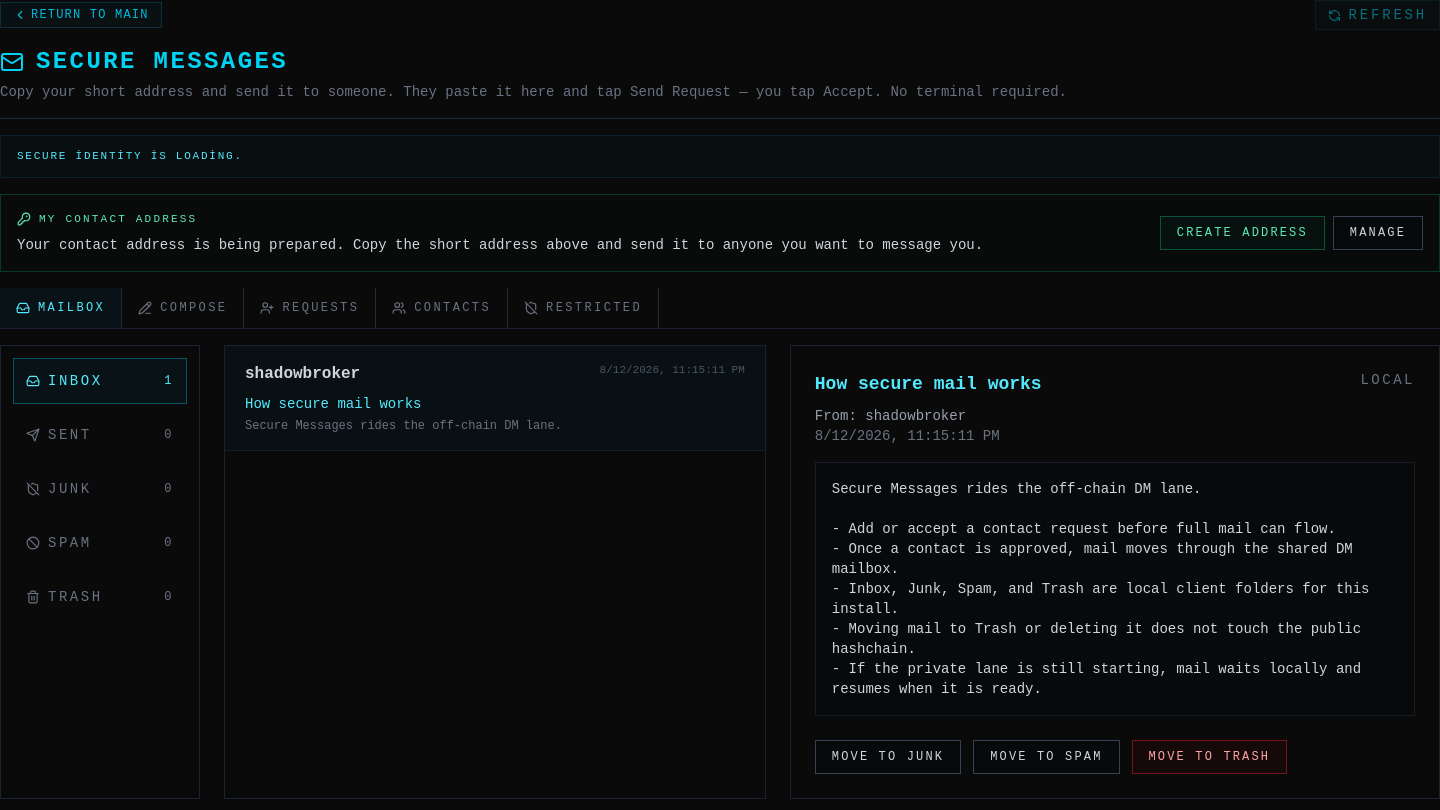
Test: MessagesView first-contact trust UX › saves mail locally when a saved contact is not reachable yet
Click the button "COMPOSE" at (183, 308), box [122,288,244,328]
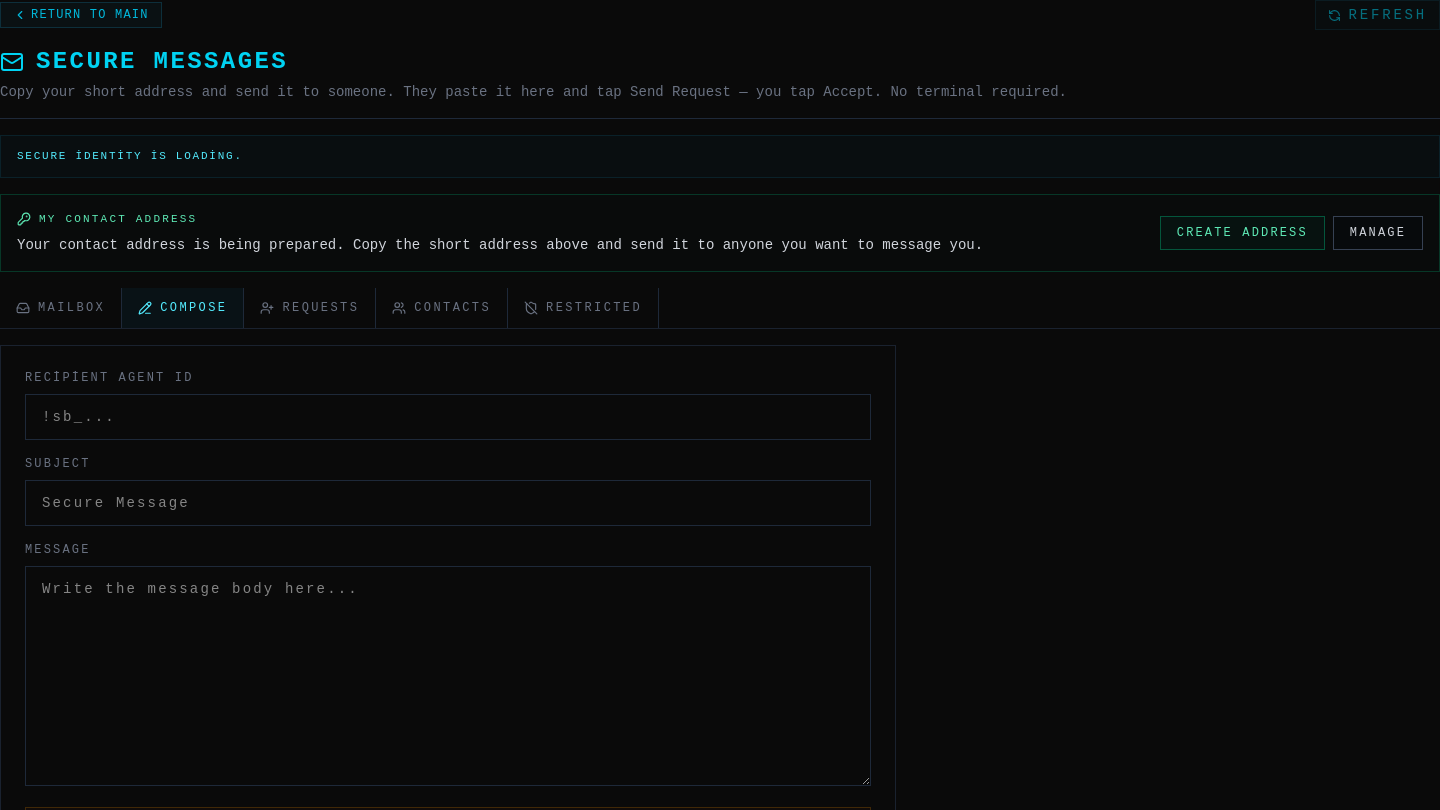
Type "!sb_pending" into the field labelled "Recipient agent ID" at (448, 417), box [25,394,871,440]
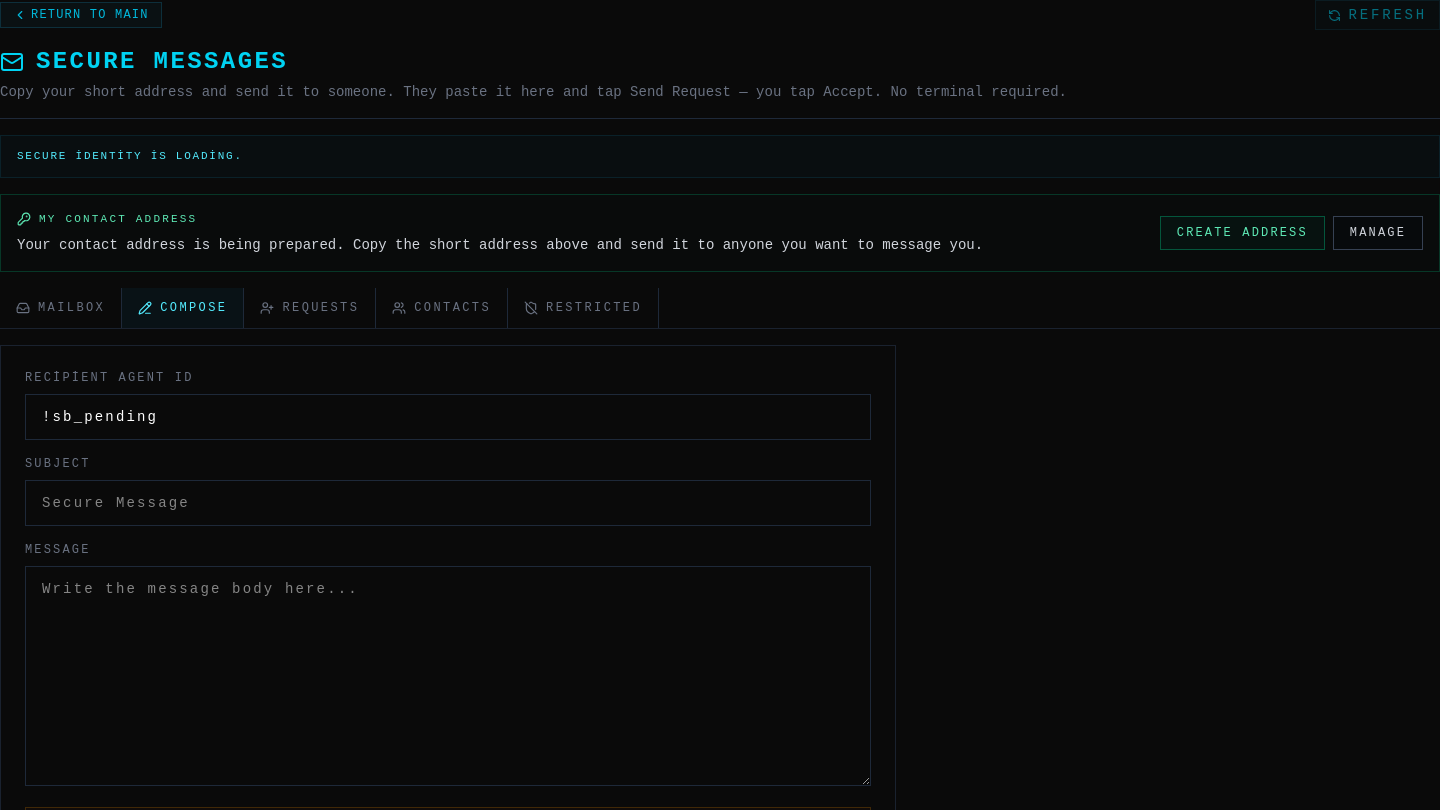
Type "hello when ready" into the text box labelled "Message" at (448, 676), box [25,566,871,786]
(page scrolled)
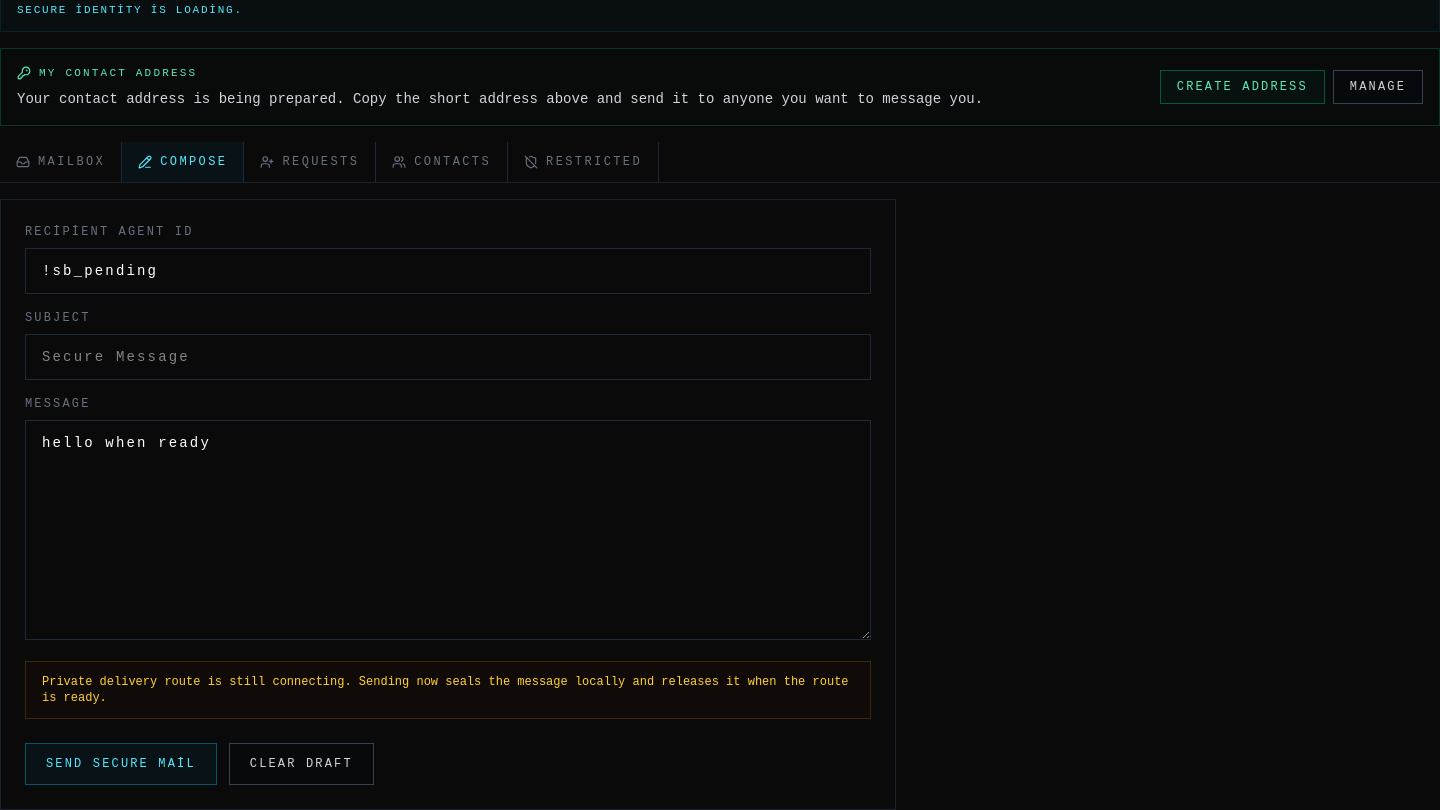
Click the button "Send Secure Mail" at (121, 764), box [25,743,217,785]
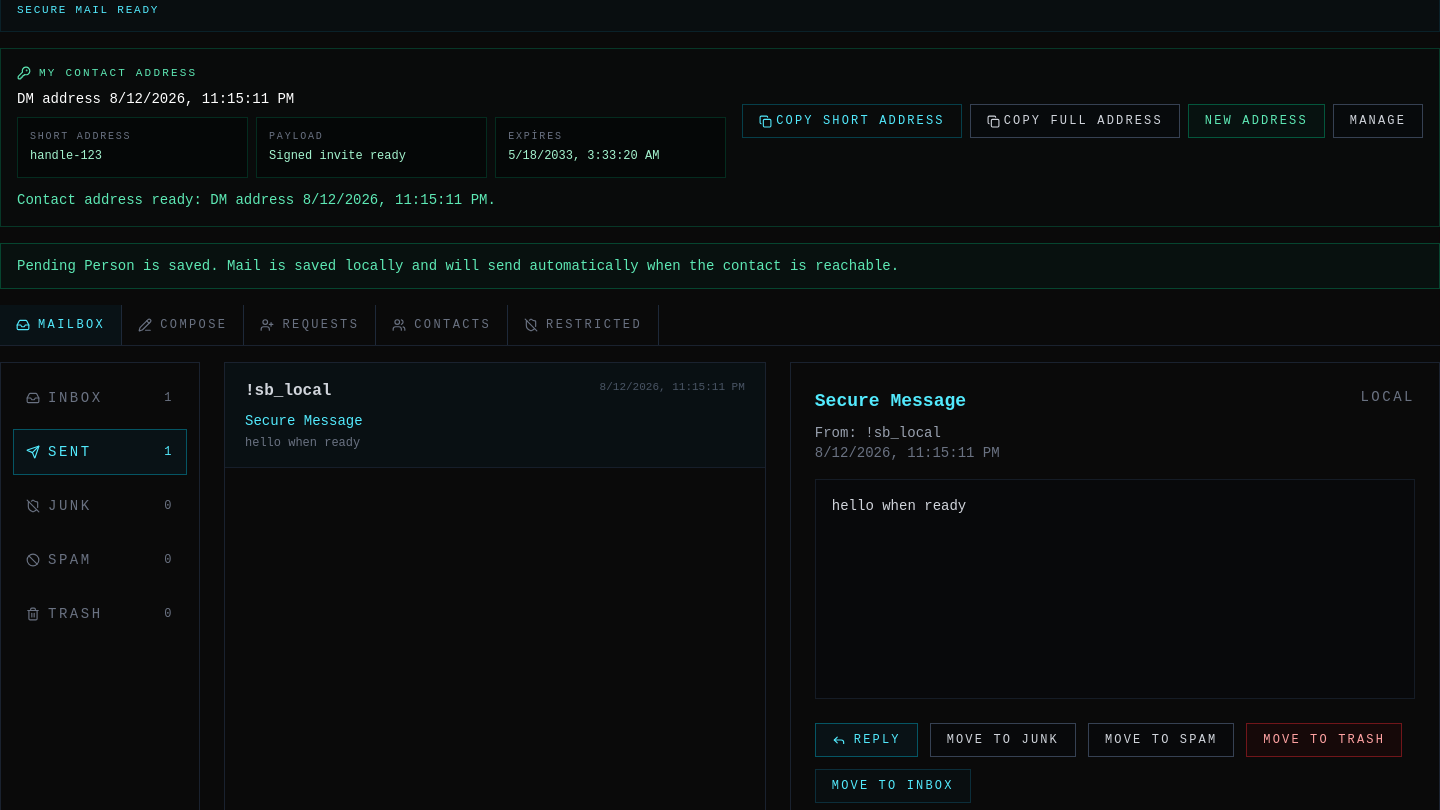
Result: the text "Mail is saved locally and will send automatically when the contact is reachable" is shown at [17,258,899,274]
